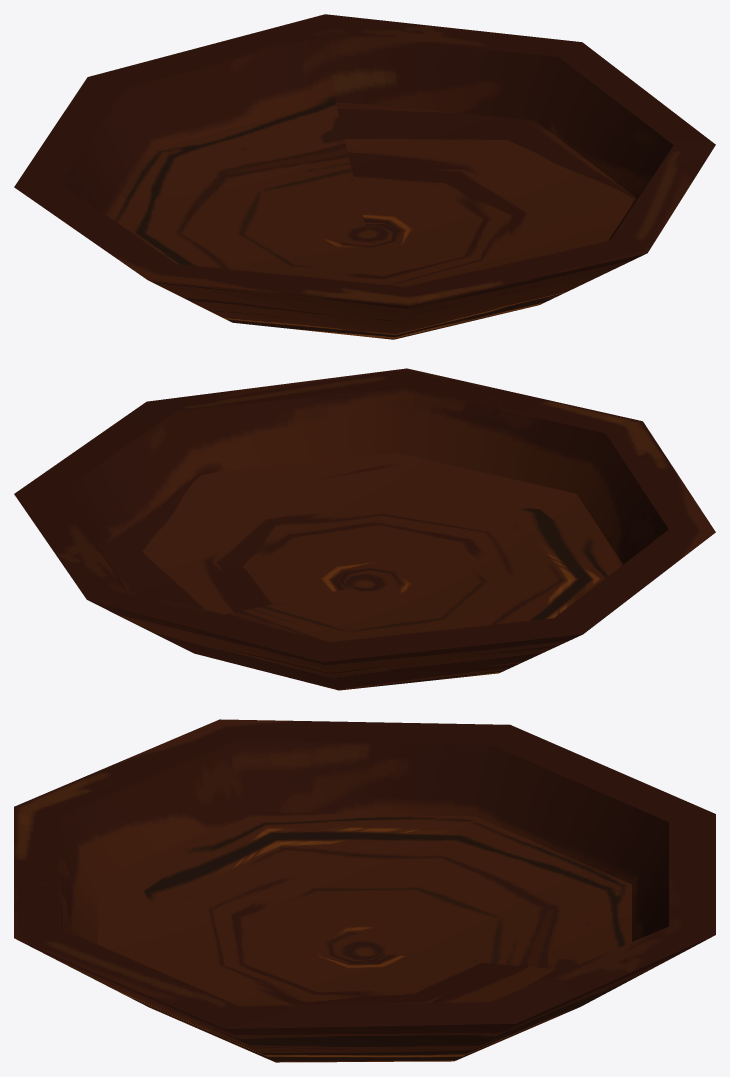
The model's file is SM_PROP_plate_wood.fbx.
The picture shows the model from 3 angles, top to bottom: view 1: azimuth 30°, elevation 25°; view 2: azimuth 150°, elevation 25°; view 3: azimuth 270°, elevation 25°; orthographic projection. The views are drawn at different scales.
Parts seen in each view (by area): view 1: SM_PROP_plate_wood; view 2: SM_PROP_plate_wood; view 3: SM_PROP_plate_wood.
Boxes of the visible parts, box(x1,y1,x2,y2) form: SM_PROP_plate_wood: box(14, 14, 715, 339); SM_PROP_plate_wood: box(14, 368, 715, 690); SM_PROP_plate_wood: box(14, 719, 715, 1062).
Bounding box in the file's own units: 32.13 × 5.29 × 31.43.
